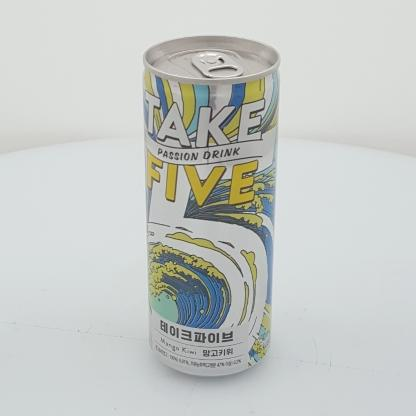---------: (142, 35, 280, 378)
